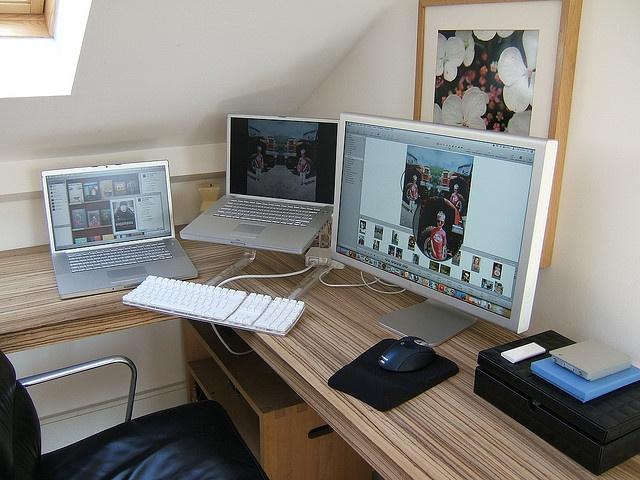AIO PC-Monitor-TV: (329, 110, 560, 334)
